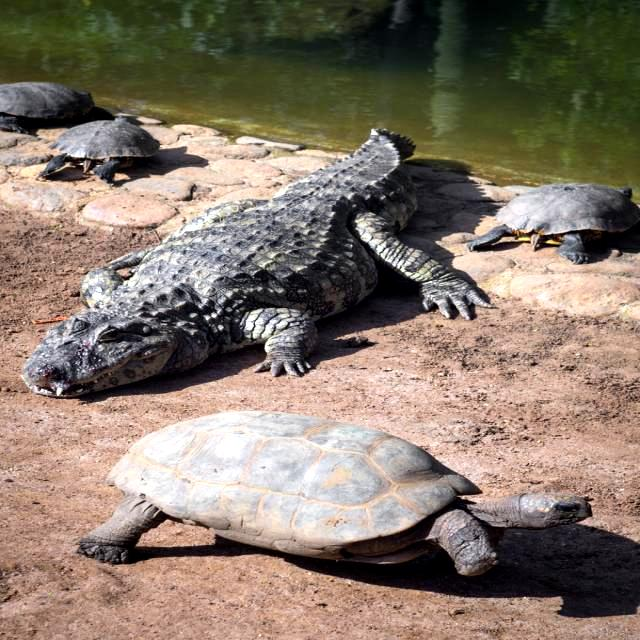Sea turtle: (71, 412, 597, 585), (468, 182, 640, 267), (36, 115, 164, 185), (0, 78, 99, 137)
